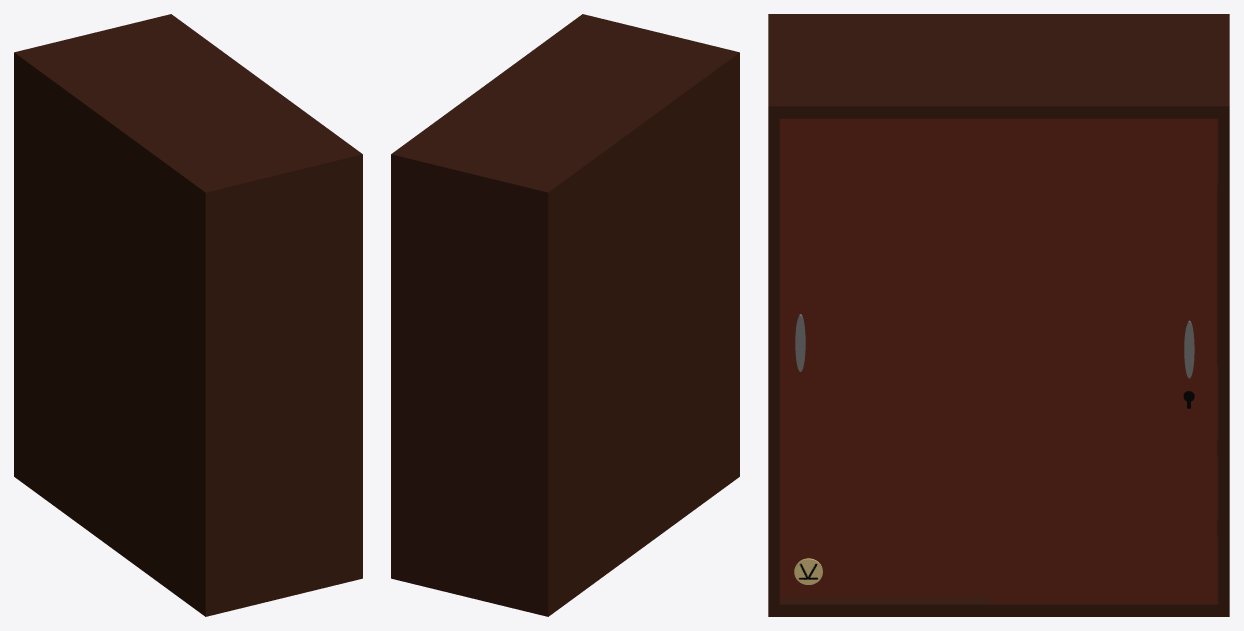
Rendered from cupboard_4.fbx.
The picture shows the model from 3 angles, left to right: view 1: azimuth 30°, elevation 25°; view 2: azimuth 150°, elevation 25°; view 3: azimuth 270°, elevation 25°; orthographic projection. The views are drawn at different scales.
Parts seen in each view (by area): view 1: Cube; view 2: Cube; view 3: Cube.006, Cube.005, Cube, Cylinder.002.
Part boxes in pixels (<box>): Cube: <box>14,14,362,616</box>; Cube: <box>391,14,739,616</box>; Cube.006: <box>990,118,1217,603</box>; Cube.005: <box>779,118,989,596</box>; Cube: <box>768,14,1229,616</box>; Cylinder.002: <box>794,558,822,584</box>.
Size of the model in its own units: 383 by 979 by 801.
